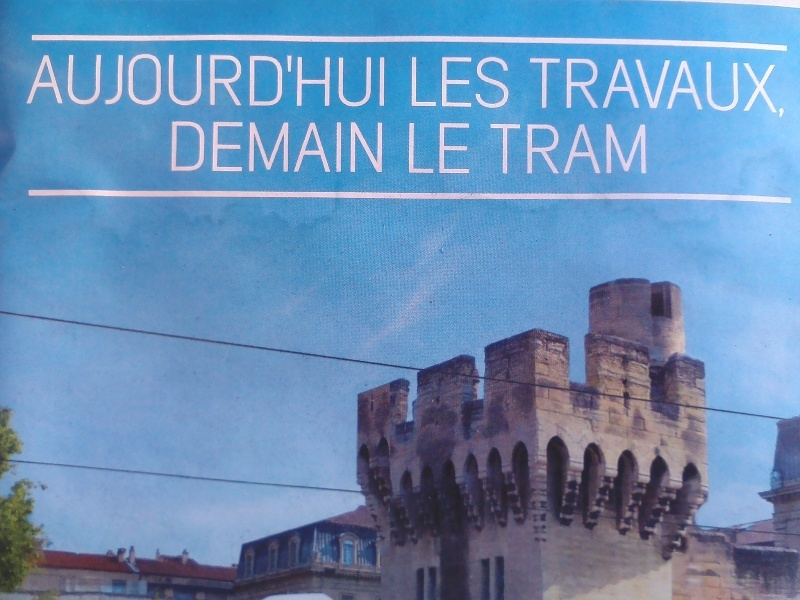text: (529, 56, 544, 118), (545, 56, 560, 118), (561, 56, 576, 118), (577, 56, 592, 118), (593, 56, 608, 118), (609, 56, 624, 118), (625, 56, 640, 118), (641, 56, 656, 118), (657, 56, 672, 118), (673, 56, 688, 118), (689, 56, 704, 118), (705, 56, 720, 118), (721, 56, 736, 118), (737, 56, 752, 118), (753, 56, 768, 118), (769, 56, 784, 118), (417, 120, 432, 180), (433, 120, 448, 180), (449, 120, 464, 180), (177, 117, 192, 176), (193, 117, 208, 176), (209, 117, 224, 176), (225, 117, 240, 176), (241, 117, 256, 176), (257, 117, 272, 176), (273, 117, 288, 176), (289, 117, 304, 176), (305, 117, 320, 176), (321, 117, 336, 176), (337, 117, 352, 176), (353, 117, 368, 176), (369, 117, 384, 176), (33, 52, 48, 110), (49, 52, 64, 110), (65, 52, 80, 110), (81, 52, 96, 110), (97, 52, 112, 110), (113, 52, 128, 110), (129, 52, 144, 110), (145, 52, 160, 110), (161, 52, 176, 110), (177, 52, 192, 110), (193, 52, 208, 110), (209, 52, 224, 110), (225, 52, 240, 110), (241, 52, 256, 110), (257, 52, 272, 110), (273, 52, 288, 110), (289, 52, 304, 110), (305, 52, 320, 110), (321, 52, 336, 110), (337, 52, 352, 110), (353, 52, 368, 110), (369, 52, 384, 110), (417, 54, 432, 111), (433, 54, 448, 111), (449, 54, 464, 111), (465, 54, 480, 111), (481, 54, 496, 111), (497, 54, 512, 111), (497, 121, 512, 176), (513, 121, 528, 176), (529, 121, 544, 176), (545, 121, 560, 176), (561, 121, 576, 176), (577, 121, 592, 176), (593, 121, 608, 176), (609, 121, 624, 176), (625, 121, 640, 176), (641, 121, 651, 176), (465, 120, 474, 180), (408, 120, 416, 180), (408, 54, 416, 111), (385, 52, 392, 110), (489, 121, 496, 176), (26, 52, 32, 110), (785, 56, 790, 118), (172, 117, 176, 176), (513, 54, 515, 111), (385, 117, 386, 176)
